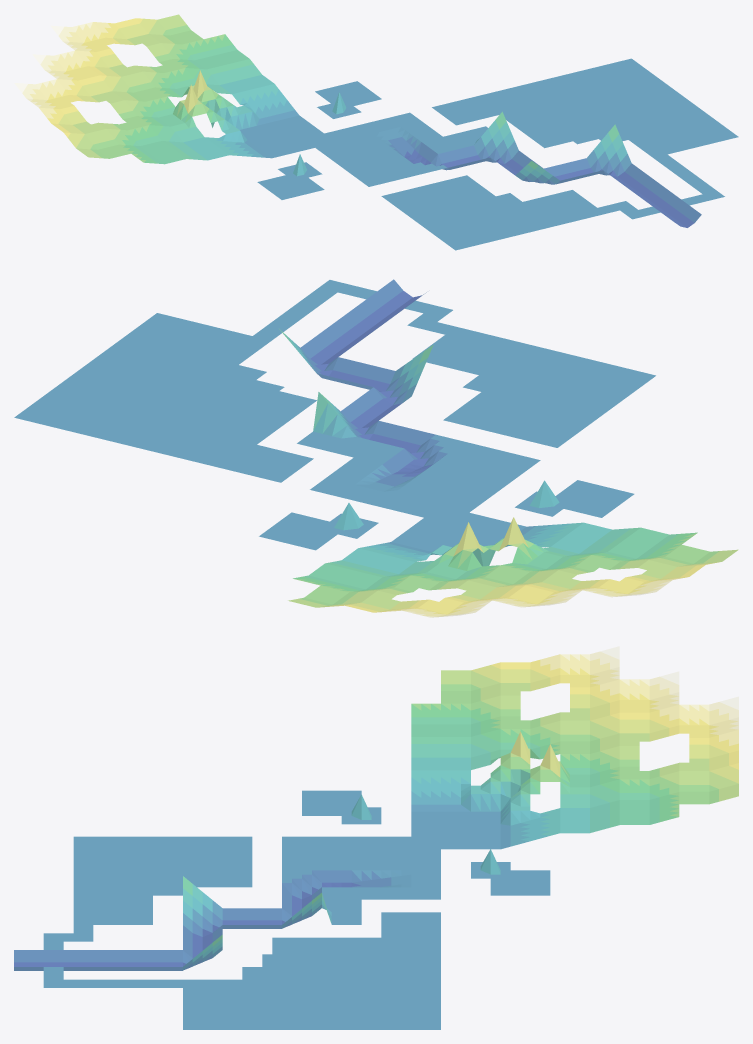
The model's file is practy.glb.
3 renders of one model, top to bottom at view 1: azimuth 30°, elevation 25°; view 2: azimuth 150°, elevation 25°; view 3: azimuth 270°, elevation 25°, orthographic. The views are drawn at different scales.
Parts seen in each view (by area): view 1: practy; view 2: practy; view 3: practy.
Part boxes in pixels (<box>): practy: <box>14,14,738,250</box>; practy: <box>14,279,738,617</box>; practy: <box>14,646,738,1029</box>.
Bounding box in the file's own units: 76 × 8.55 × 73.
